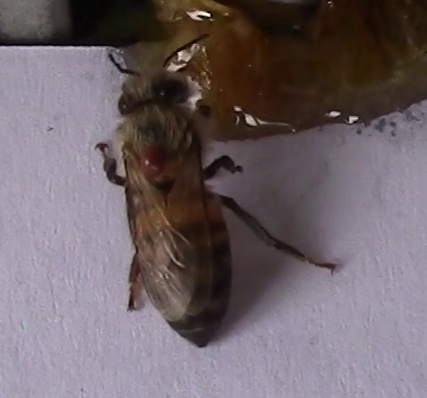Varroa destructor: (140, 138, 169, 183)
